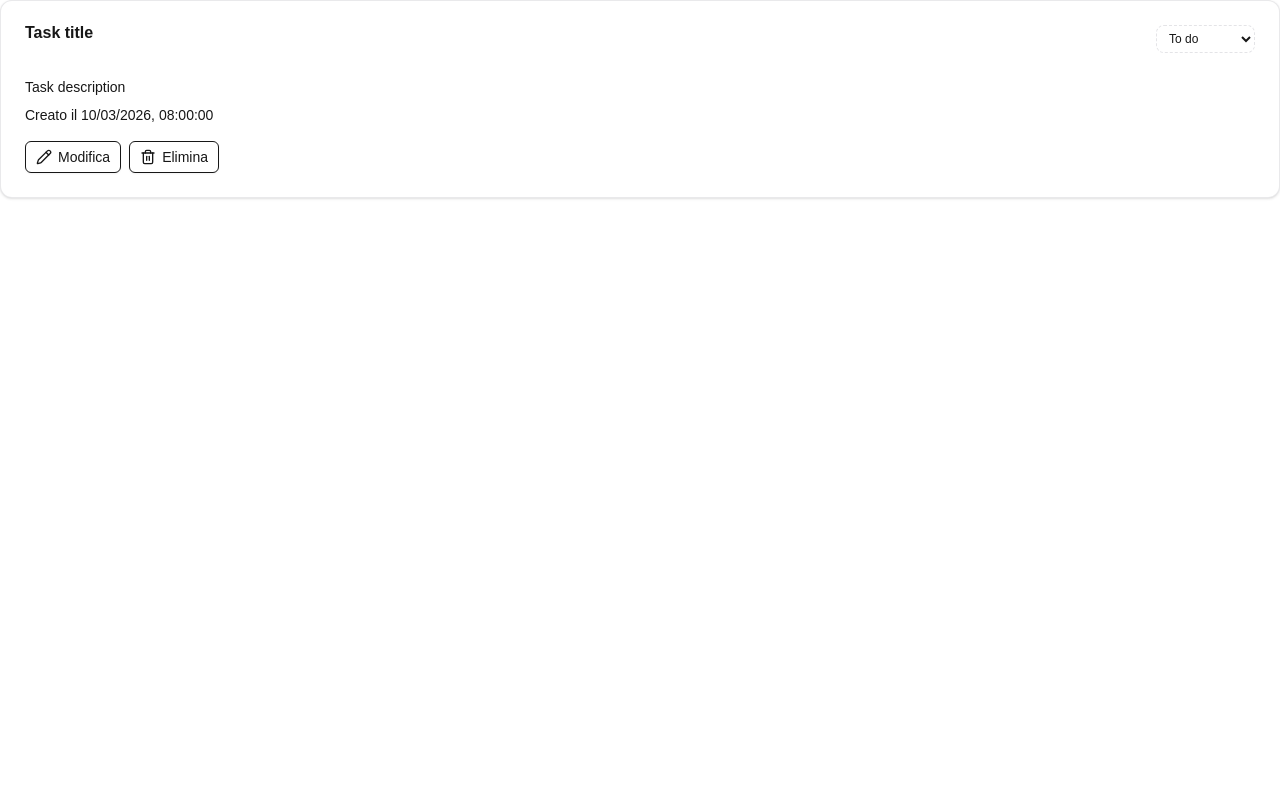
TaskCard › cancels delete dialog without deleting
Click the button "Elimina": (174, 157) 129,141 -> 219,173
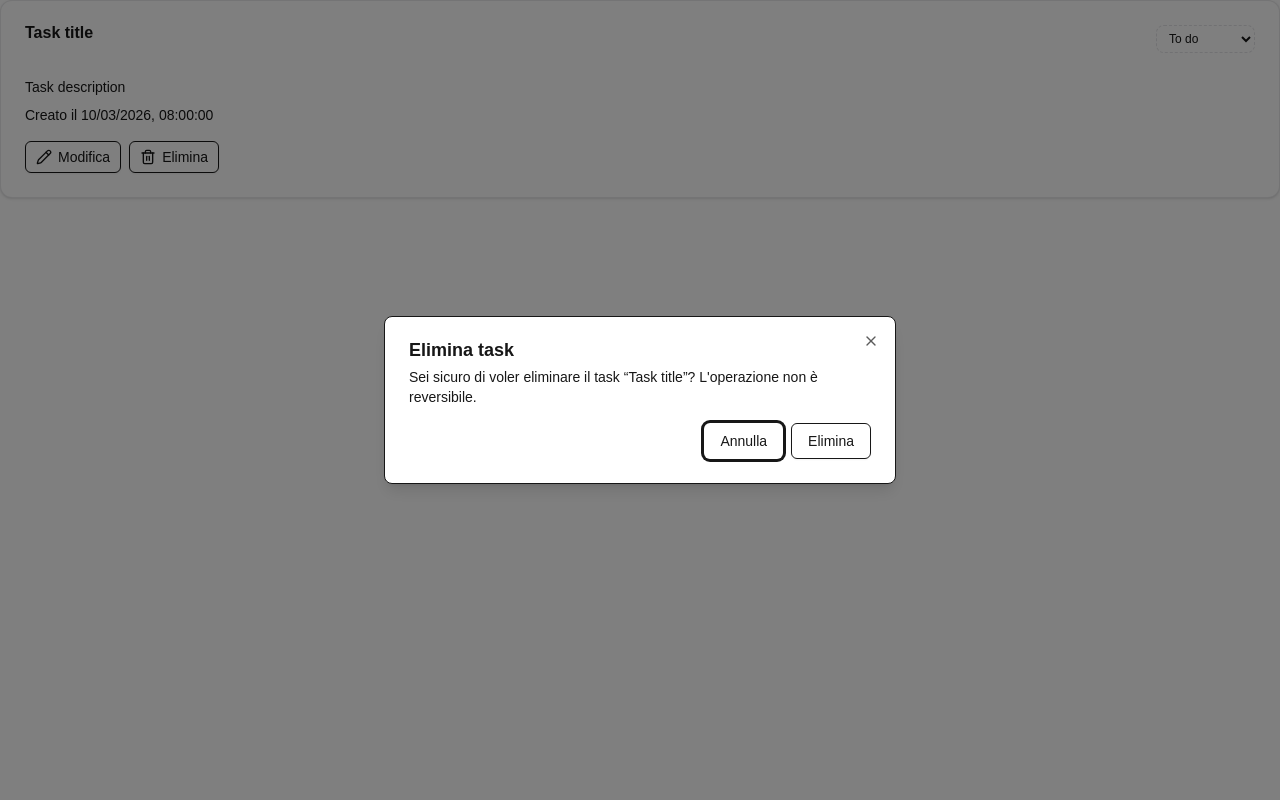
Click the button "Annulla": (744, 441) 704,423 -> 783,459
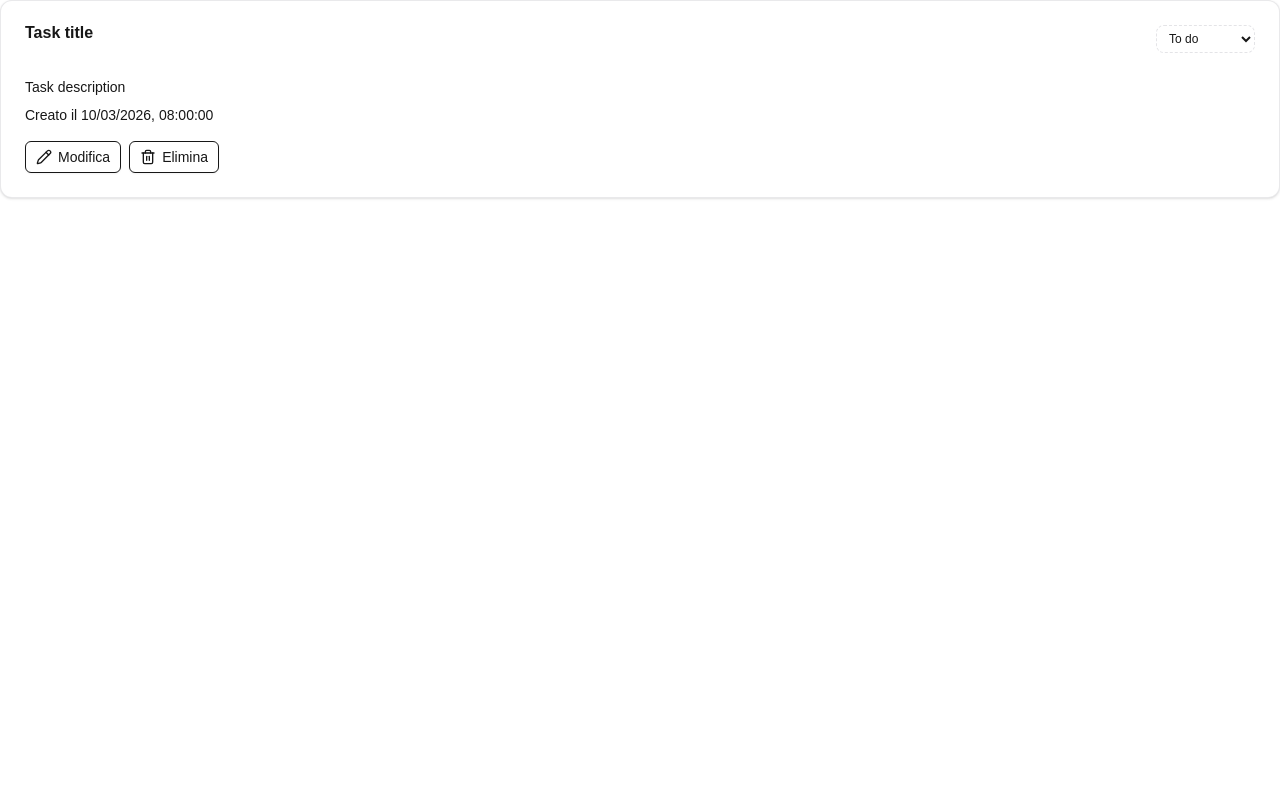
Expected: the dialog is gone
